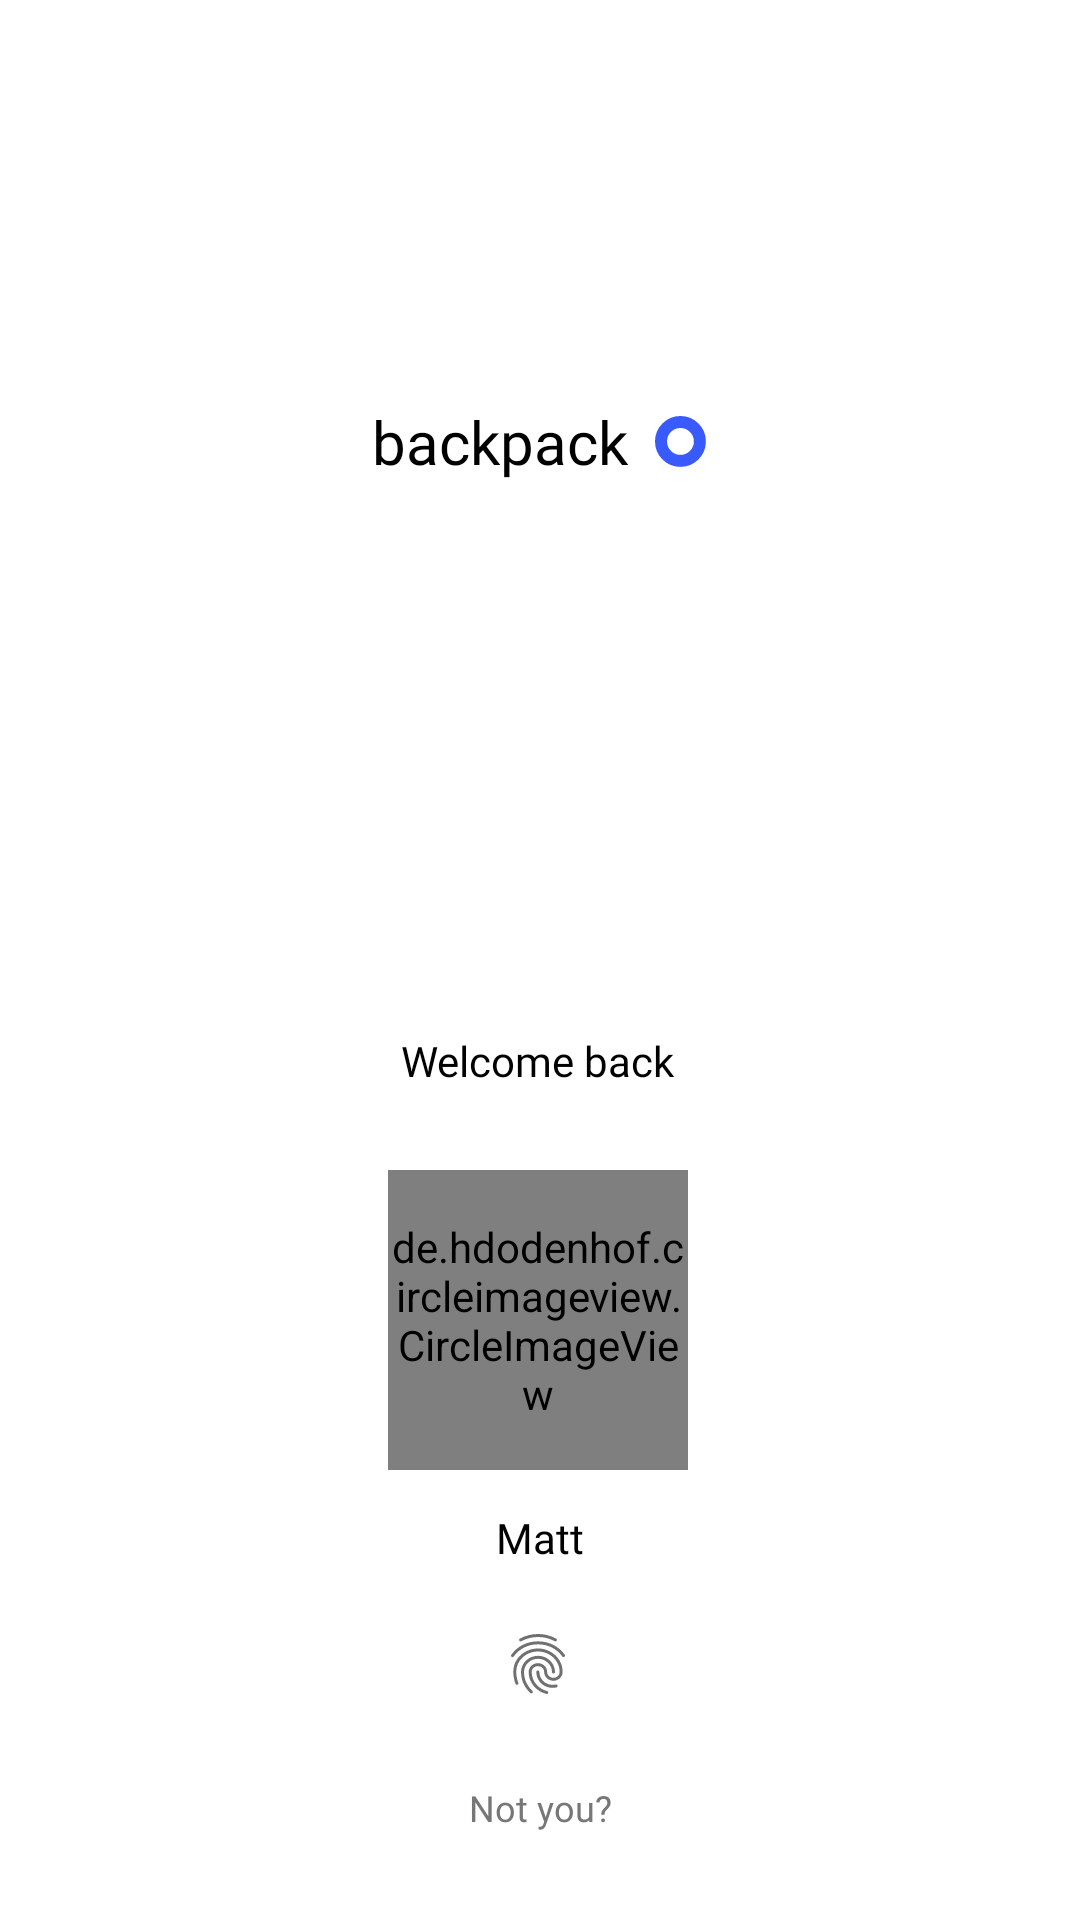

Screen size 1080px×1920px. Icon name, then its box in pixels as (x1, y1, x2, y2):
fingerprint: (511, 1634, 565, 1694)
